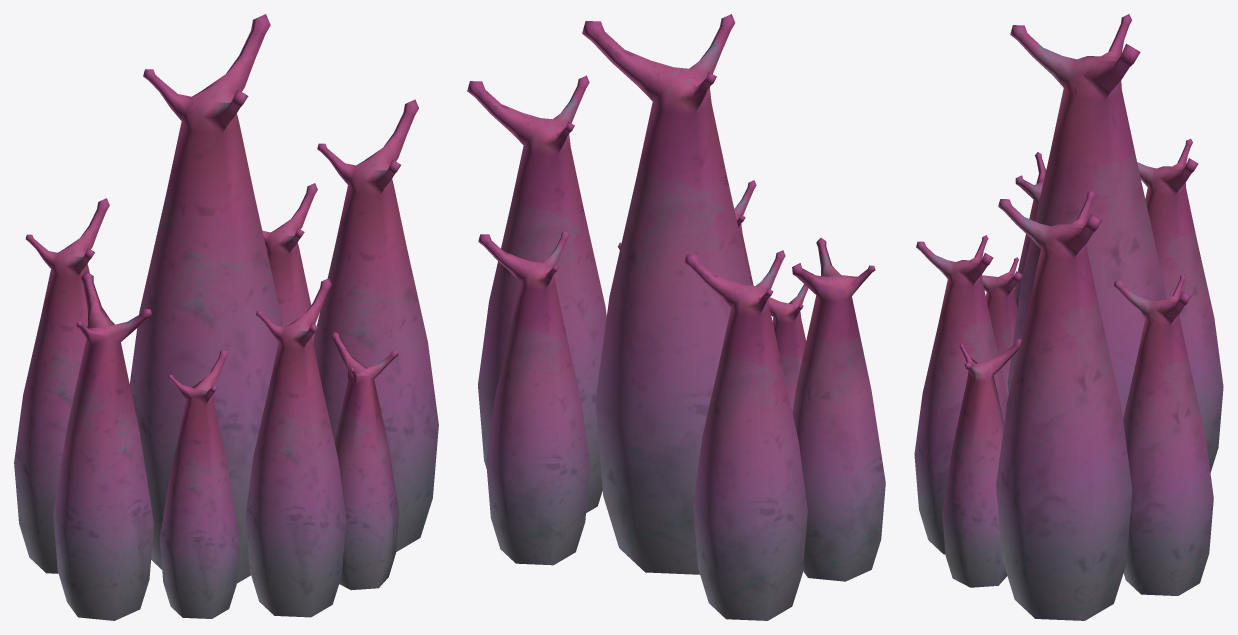
The model's file is Sce_Aquarium_Hawaii01_SeaAnemone06.FBX.
3 views of the same model, side by side, from view 1: azimuth 30°, elevation 25°; view 2: azimuth 150°, elevation 25°; view 3: azimuth 270°, elevation 25° (orthographic). The views are drawn at different scales.
Visible parts, largest first — view 1: Sce_Aquarium_Hawaii01_SeaAnemone06; view 2: Sce_Aquarium_Hawaii01_SeaAnemone06; view 3: Sce_Aquarium_Hawaii01_SeaAnemone06.
Boxes of the visible parts, x1,y1,x2,y2 form: Sce_Aquarium_Hawaii01_SeaAnemone06: (14, 14, 438, 620); Sce_Aquarium_Hawaii01_SeaAnemone06: (467, 14, 885, 620); Sce_Aquarium_Hawaii01_SeaAnemone06: (914, 14, 1223, 620).
Size of the model in its own units: 0.4824 by 0.6275 by 0.339.
